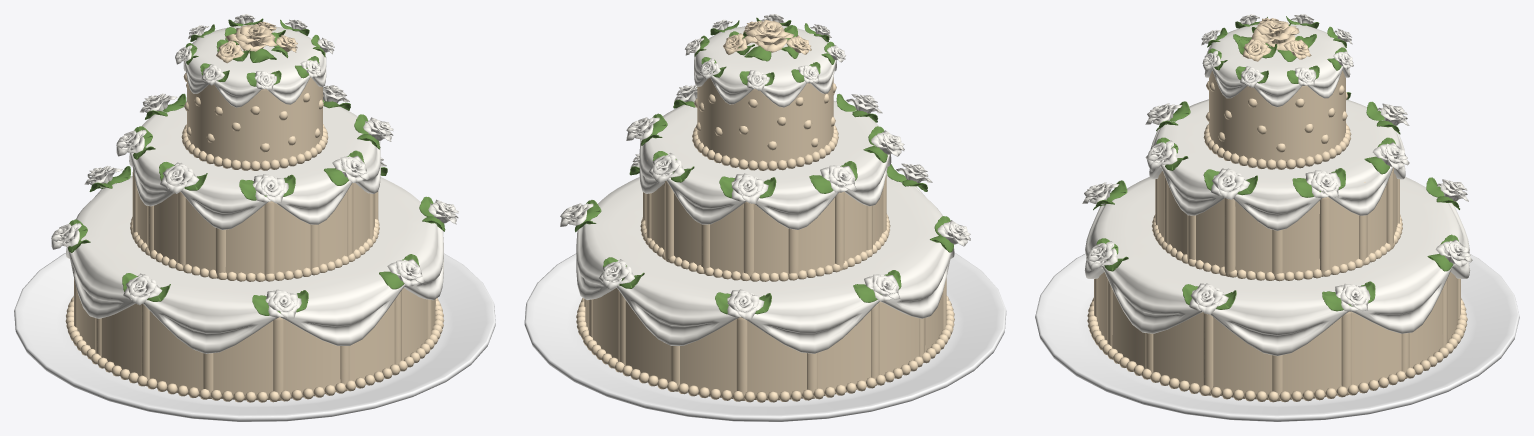
File: cake.glb
The picture shows the model from 3 angles, left to right: view 1: azimuth 30°, elevation 25°; view 2: azimuth 150°, elevation 25°; view 3: azimuth 270°, elevation 25°; orthographic projection.
Parts seen in each view (by area): view 1: cake_mesh; view 2: cake_mesh; view 3: cake_mesh.
Boxes of the visible parts, <box> form: cake_mesh: <box>14,14,495,421</box>; cake_mesh: <box>524,14,1006,421</box>; cake_mesh: <box>1035,14,1519,421</box>.
Size of the model in its own units: 18.59 by 13.06 by 18.59.
